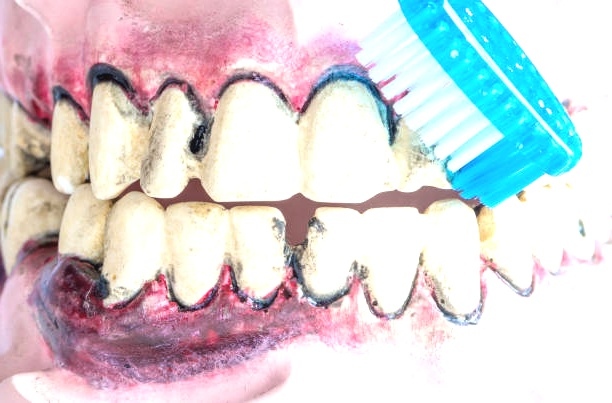Caries: (172, 113, 232, 160), (269, 220, 326, 259)
